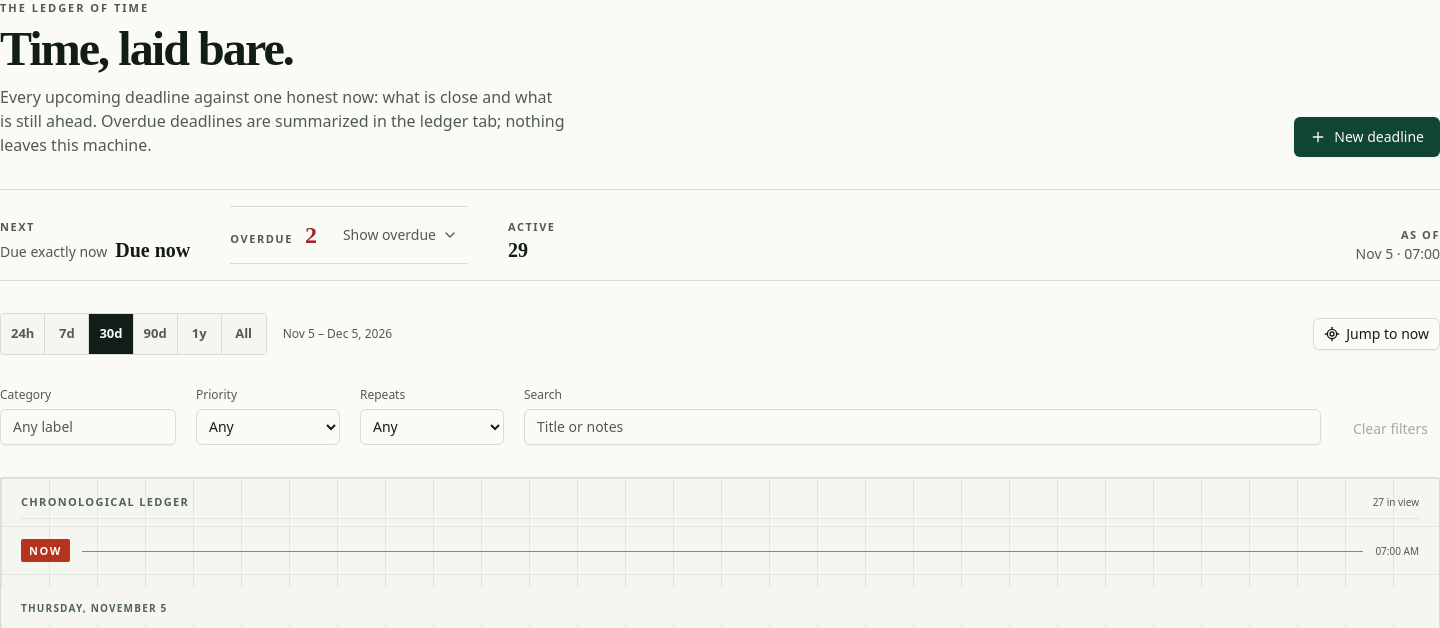
Scenario: TimelinePage US1 baseline › renders every entry exactly once in chronological order with due moments and countdowns
Expected: the heading "Time, laid bare." is shown, [0, 22, 293, 74]
Click the button "Show overdue".
click(400, 234)  # box [333, 214, 468, 254]
(page scrolled)
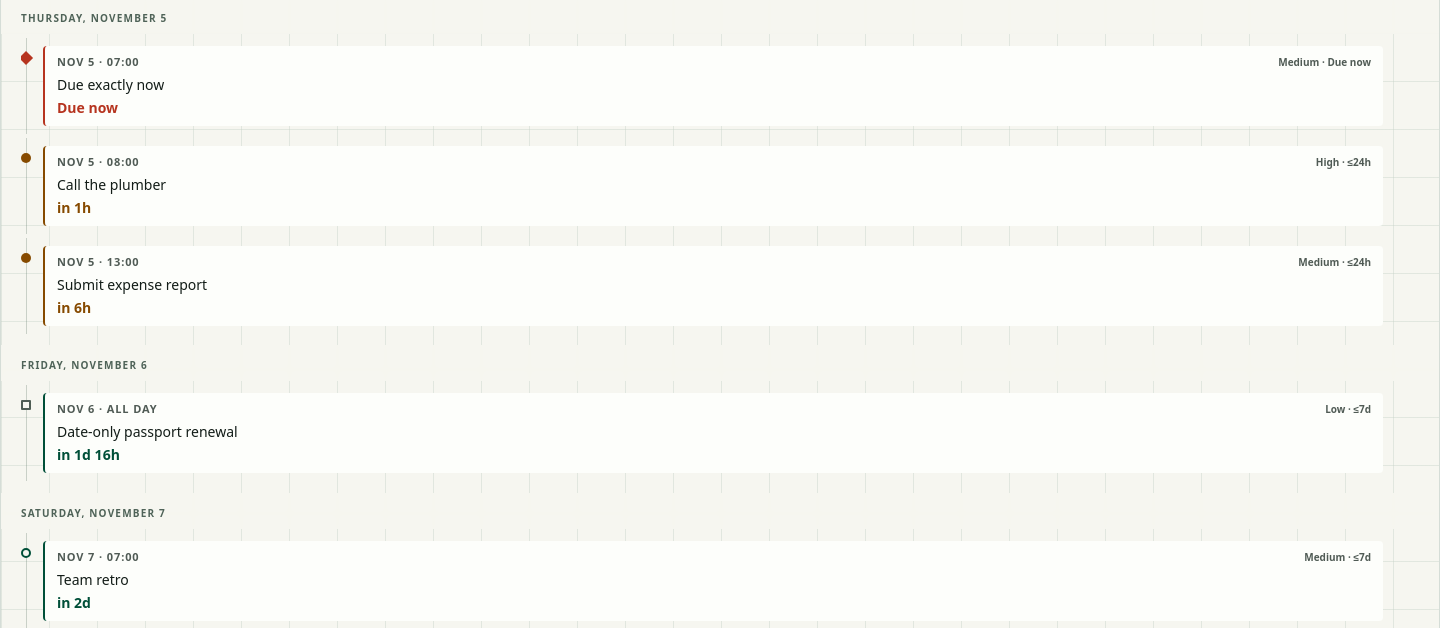
Expected: the text "Due exactly now" is shown once, [57, 74, 164, 94]
Expected: the text "Call the plumber" is shown once, [57, 174, 166, 193]
Expected: the text "Submit expense report" is shown once, [57, 274, 207, 293]
